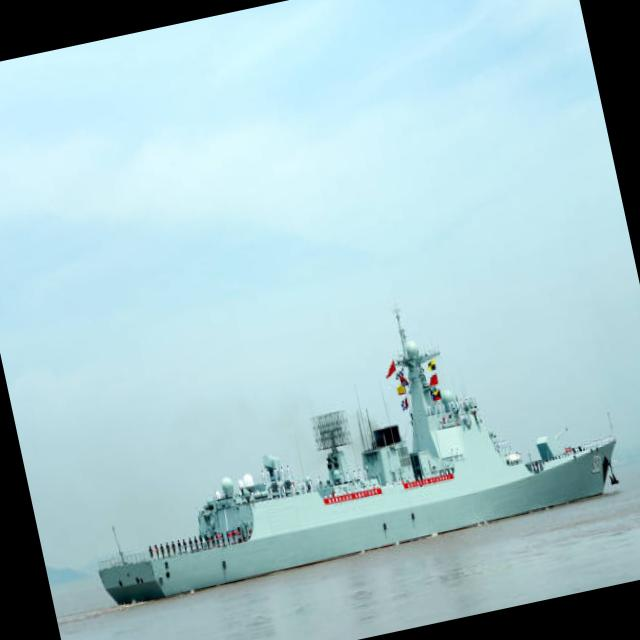Military: (97, 310, 617, 608)
